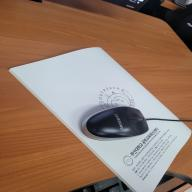mouse: (77, 97, 161, 146)
